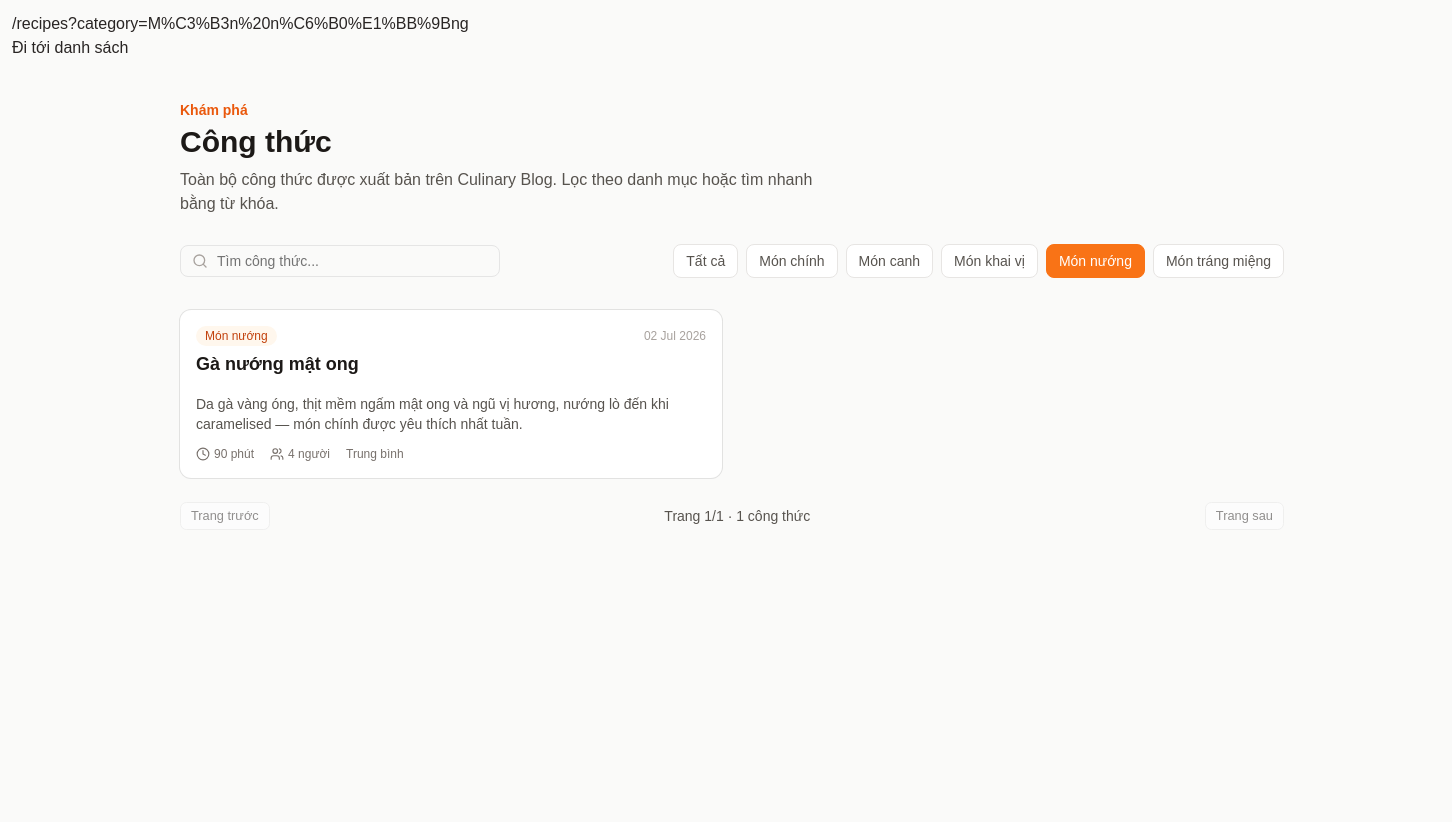
Scenario: RecipesBrowsePage › drops the category when the list is opened again while still mounted
The width and height of the screenshot is (1452, 822).
Expected: the heading "Gà nướng mật ong" is shown, [196,354,359,374]
Click the link "Đi tới danh sách": (70,48) [12,39,128,56]
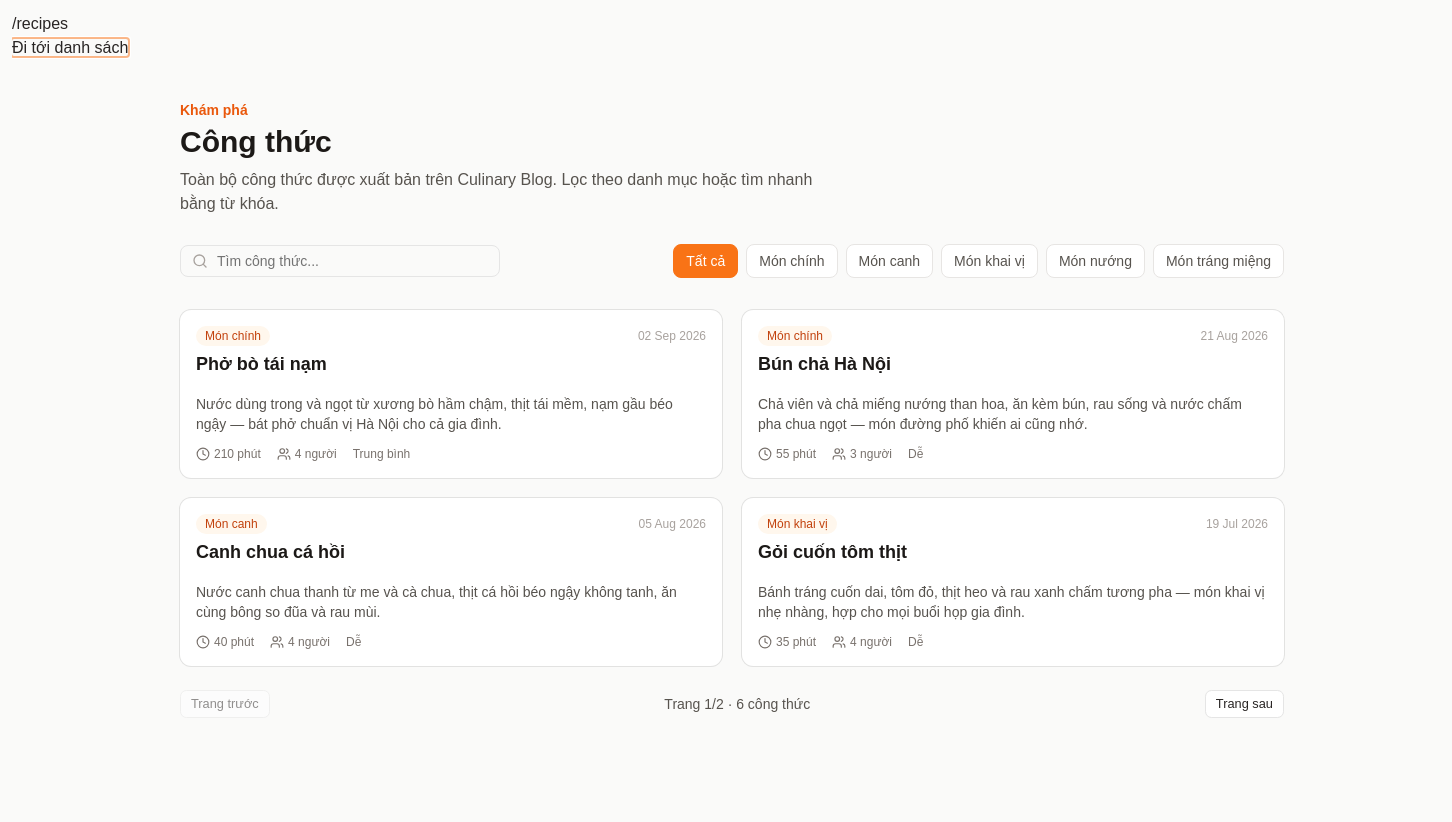
Expected: the text with test id "location" reads "/recipes", [12,15,68,32]
Now the heading "Phở bò tái nạm" is shown, box [196,354,327,374]
